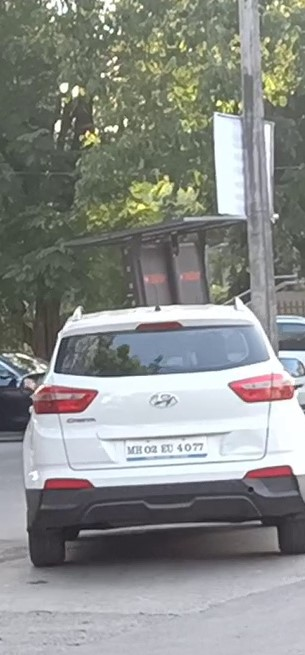MH02EU4077: (122, 434, 206, 456)
